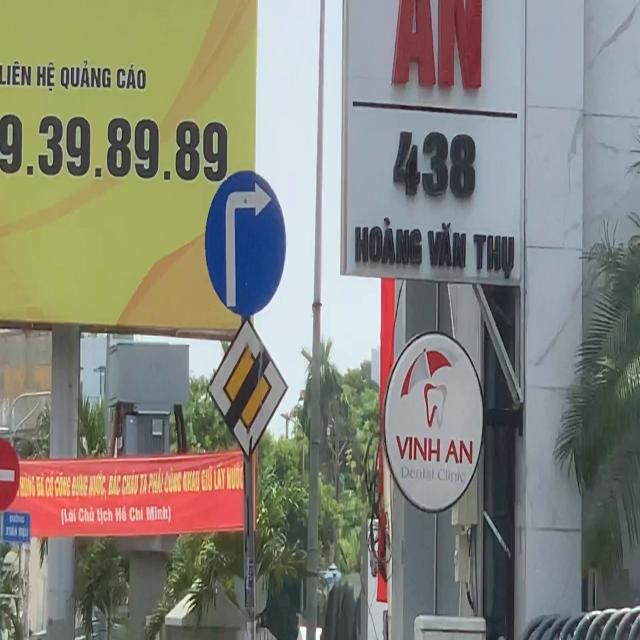Re phai: (204, 169, 286, 318)
